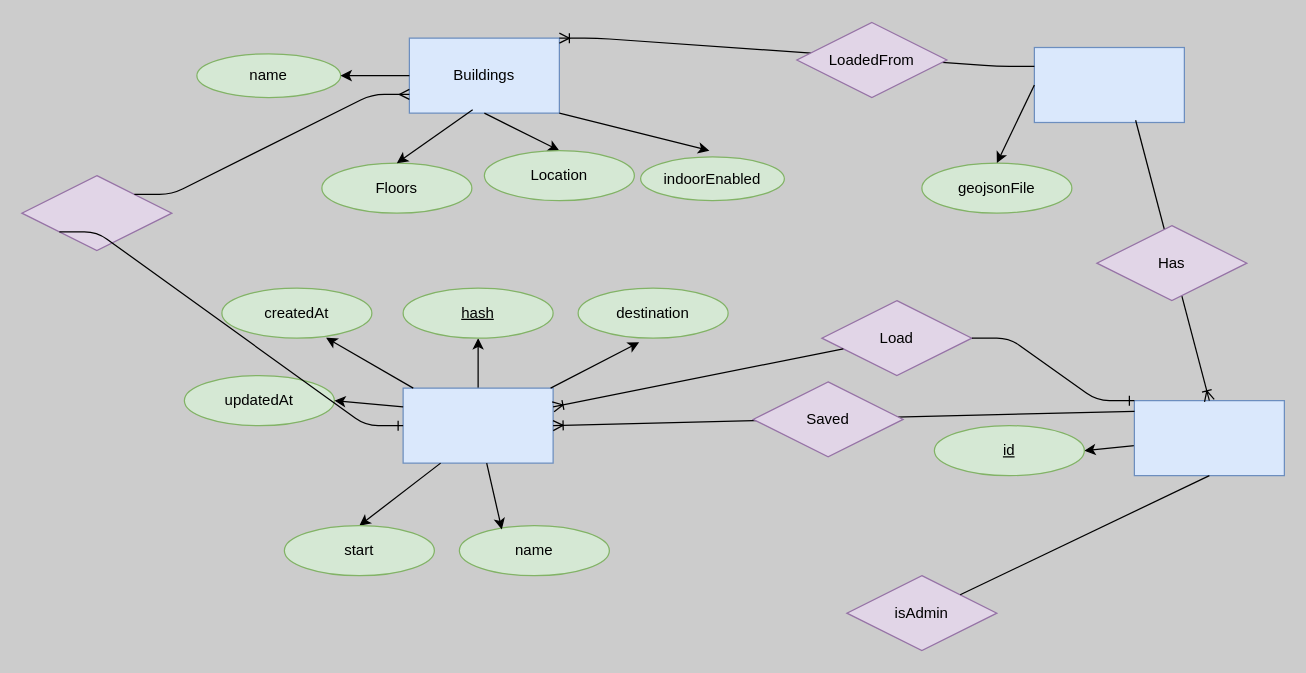
The diagram is 1306 pixels wide and 673 high, and some of its shapes have lost their labels. The centre of each missing label's shape, as x and y in pixels:
"Connects" goes at pixel 96 212.
"MapData" goes at pixel 1108 84.
"Route" goes at pixel 477 425.
"Users" goes at pixel 1208 437.
